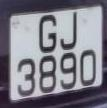0: (78, 44, 98, 90)
3: (16, 52, 39, 100)
8: (36, 53, 60, 95)
9: (58, 50, 79, 92)
G: (36, 14, 59, 55)
J: (56, 11, 79, 53)
